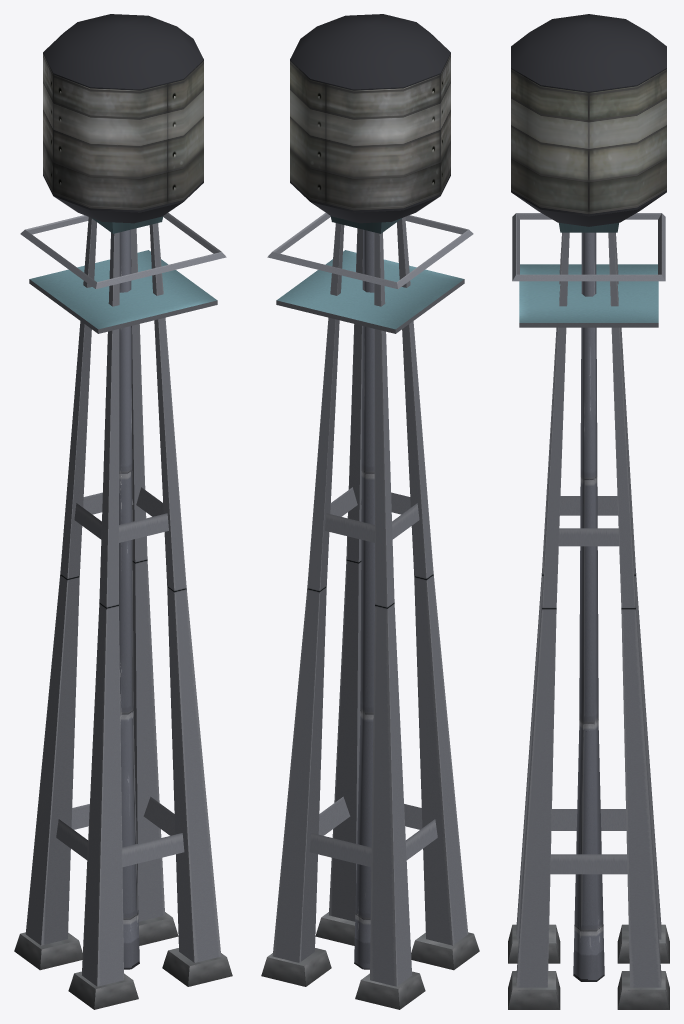
File: WaterTowerSmall.fbx
3 renders of one model, left to right at view 1: azimuth 30°, elevation 25°; view 2: azimuth 150°, elevation 25°; view 3: azimuth 270°, elevation 25°, orthographic.
Visible parts, largest first — view 1: WaterTowerSmall; view 2: WaterTowerSmall; view 3: WaterTowerSmall.
Part boxes in pixels (<box>): WaterTowerSmall: <box>14,14,232,1009</box>; WaterTowerSmall: <box>261,14,479,1009</box>; WaterTowerSmall: <box>508,14,669,1009</box>.
Bounding box in the file's own units: 11.96 × 76.48 × 11.82.
